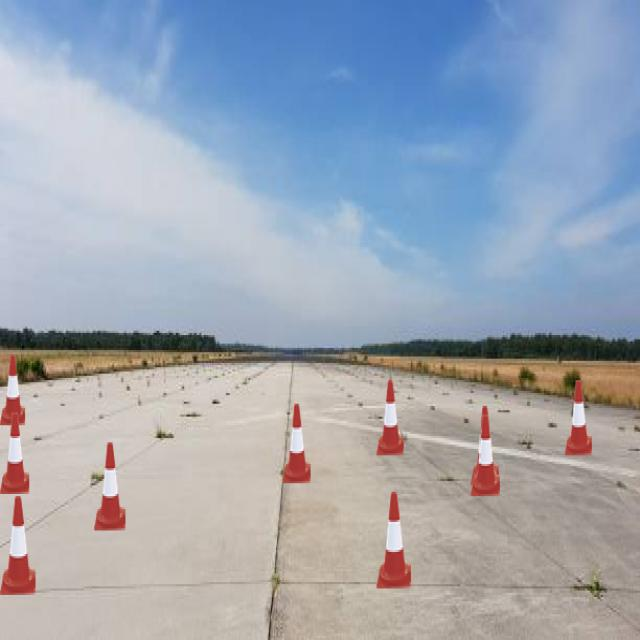orange_cone: (0, 496, 36, 595), (376, 492, 411, 588), (94, 442, 126, 530), (470, 415, 500, 496), (0, 412, 29, 493), (282, 404, 310, 483), (471, 406, 498, 485), (376, 380, 404, 455), (565, 380, 592, 455), (0, 354, 25, 426)
